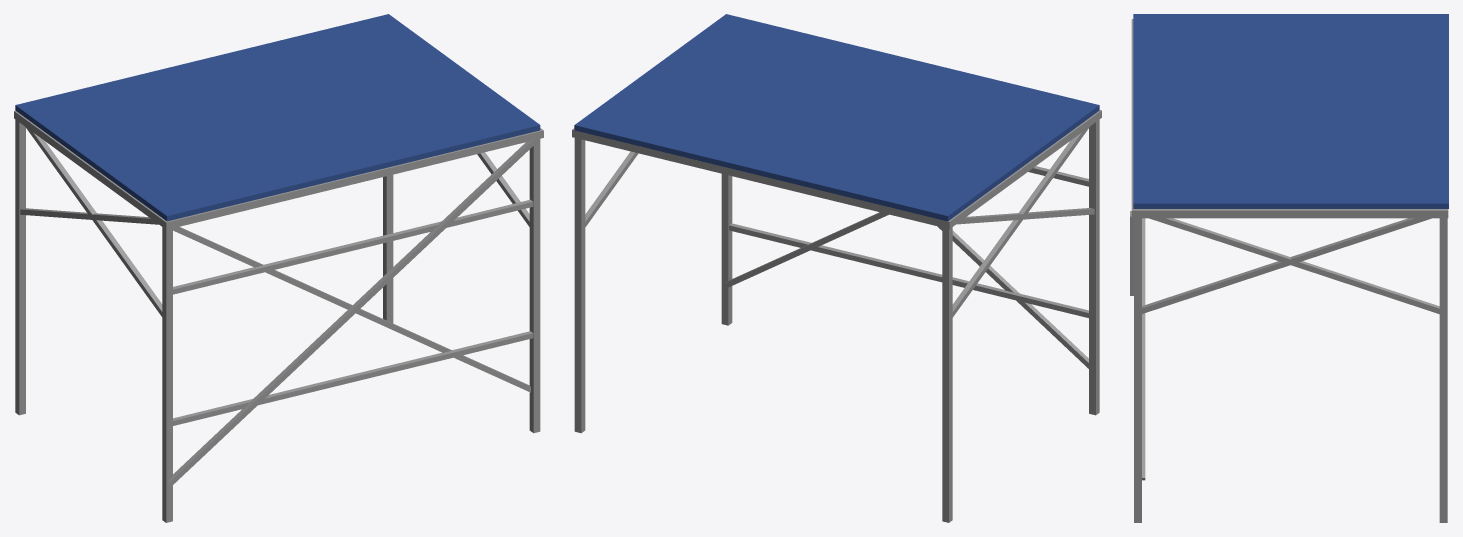
Rendered from Hangar_Scaffolding_02.fbx.
3 views of the same model, side by side, from view 1: azimuth 30°, elevation 25°; view 2: azimuth 150°, elevation 25°; view 3: azimuth 270°, elevation 25° (orthographic). The views are drawn at different scales.
Parts seen in each view (by area): view 1: Scaffolding_02; view 2: Scaffolding_02; view 3: Scaffolding_02.
Part boxes in pixels (x1,y1,x2,y2): Scaffolding_02: [14, 14, 543, 522]; Scaffolding_02: [572, 14, 1101, 522]; Scaffolding_02: [1130, 14, 1448, 522].
Bounding box in the file's own units: 694 × 539 × 488.
